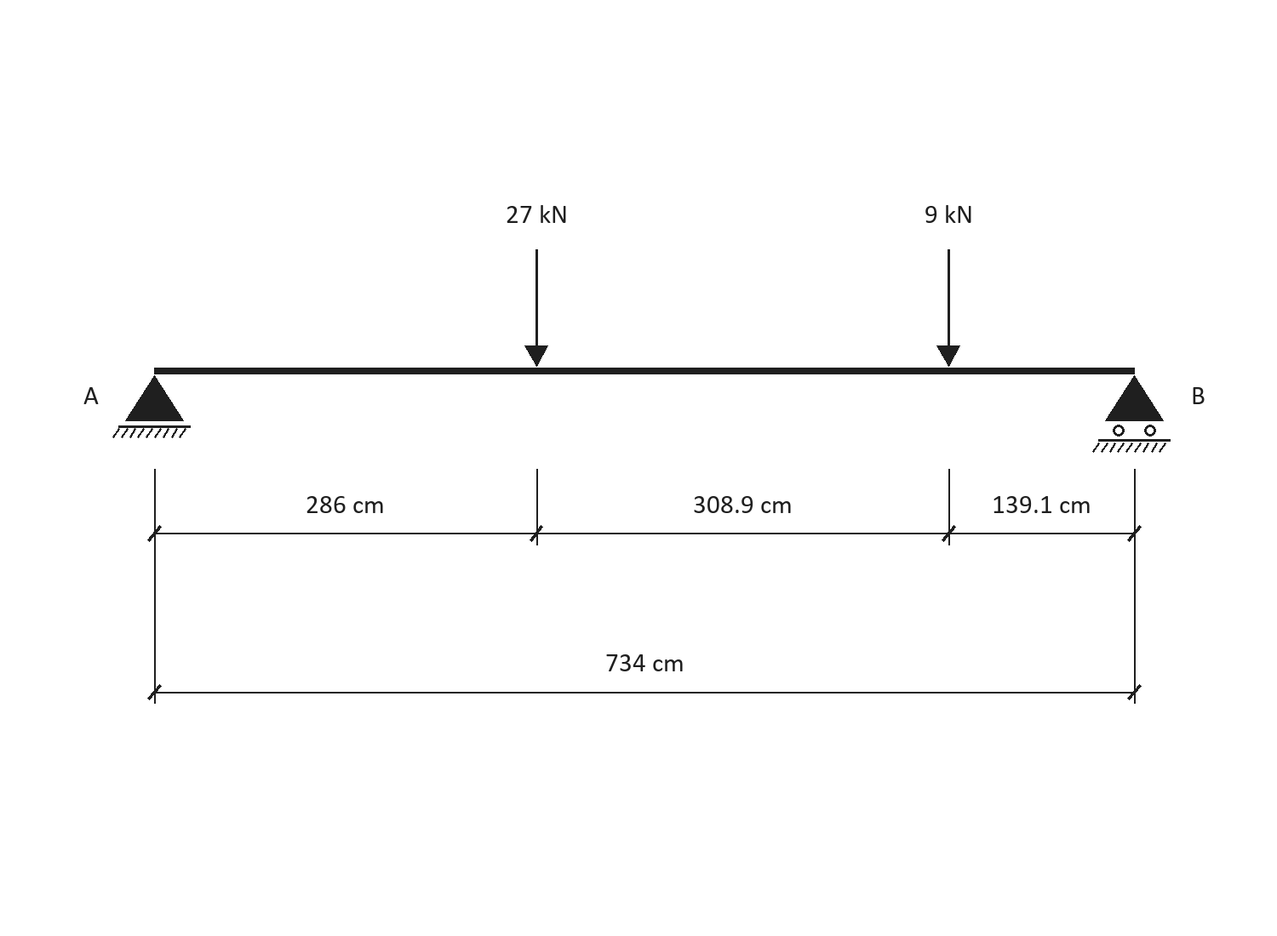pin_support: (112, 375, 191, 438)
point_load: (524, 249, 548, 367), (936, 249, 960, 367)
roller_support: (1092, 375, 1171, 453)
